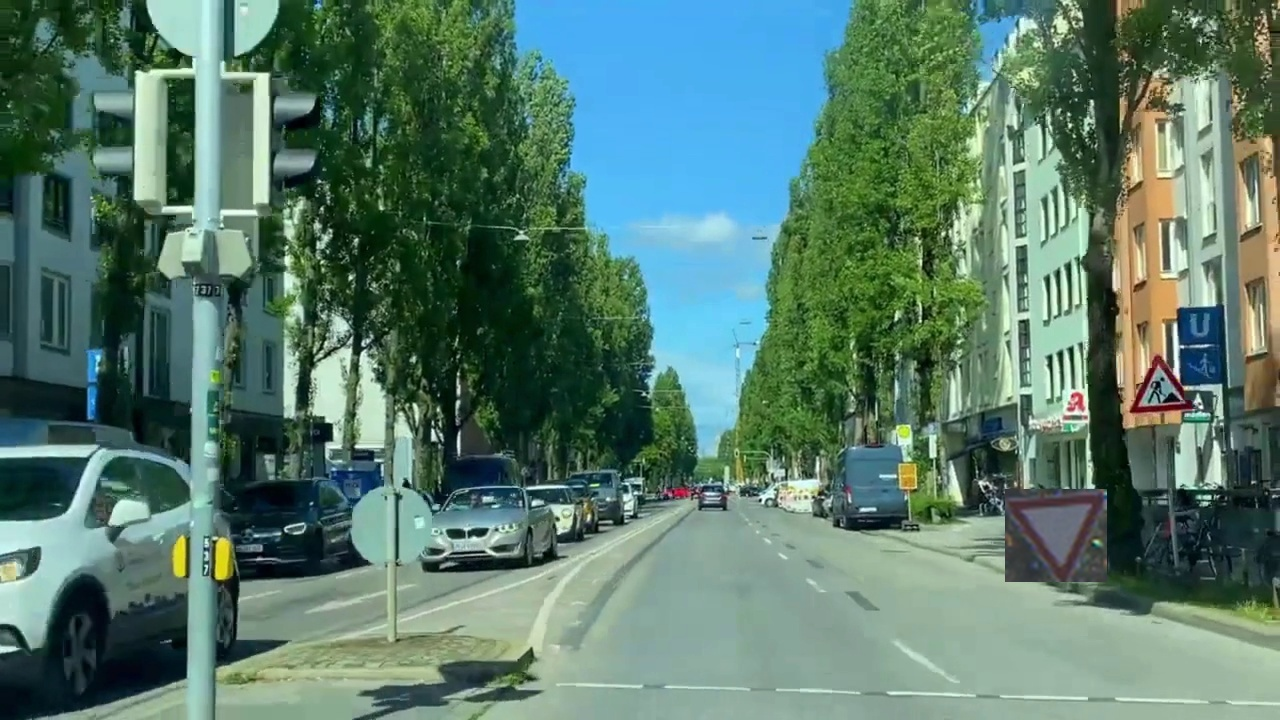Yield: (1005, 489, 1107, 582)
